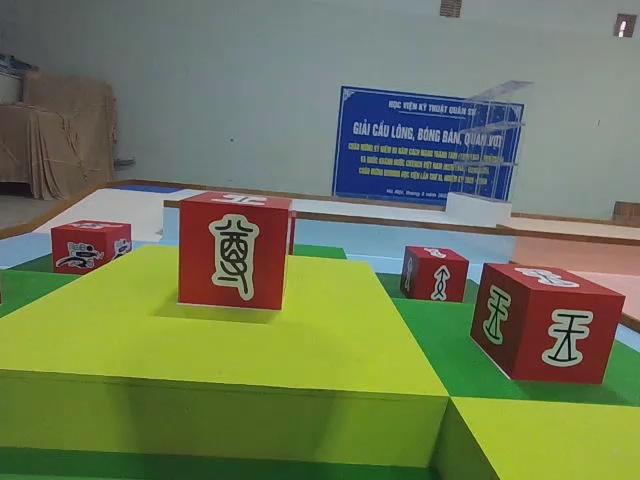R1: (51, 219, 132, 277)
R2 Fake: (179, 190, 292, 319)
R2 Real: (471, 261, 625, 391), (401, 246, 469, 303)
